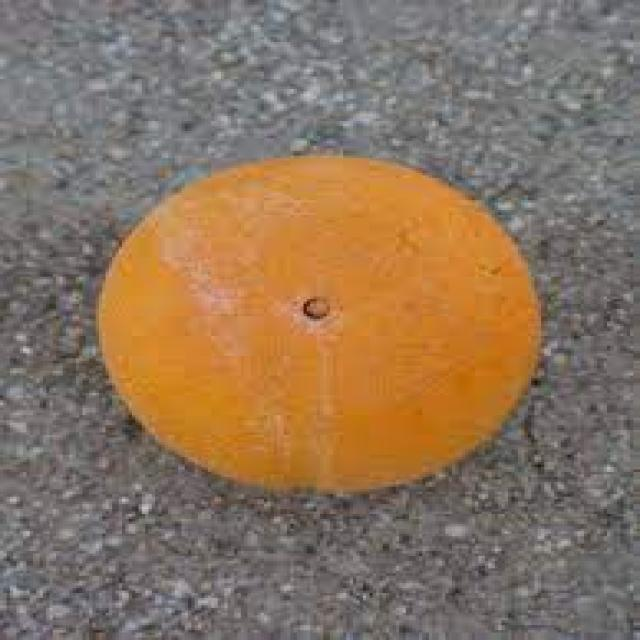Good_Orange: (96, 153, 544, 497)
